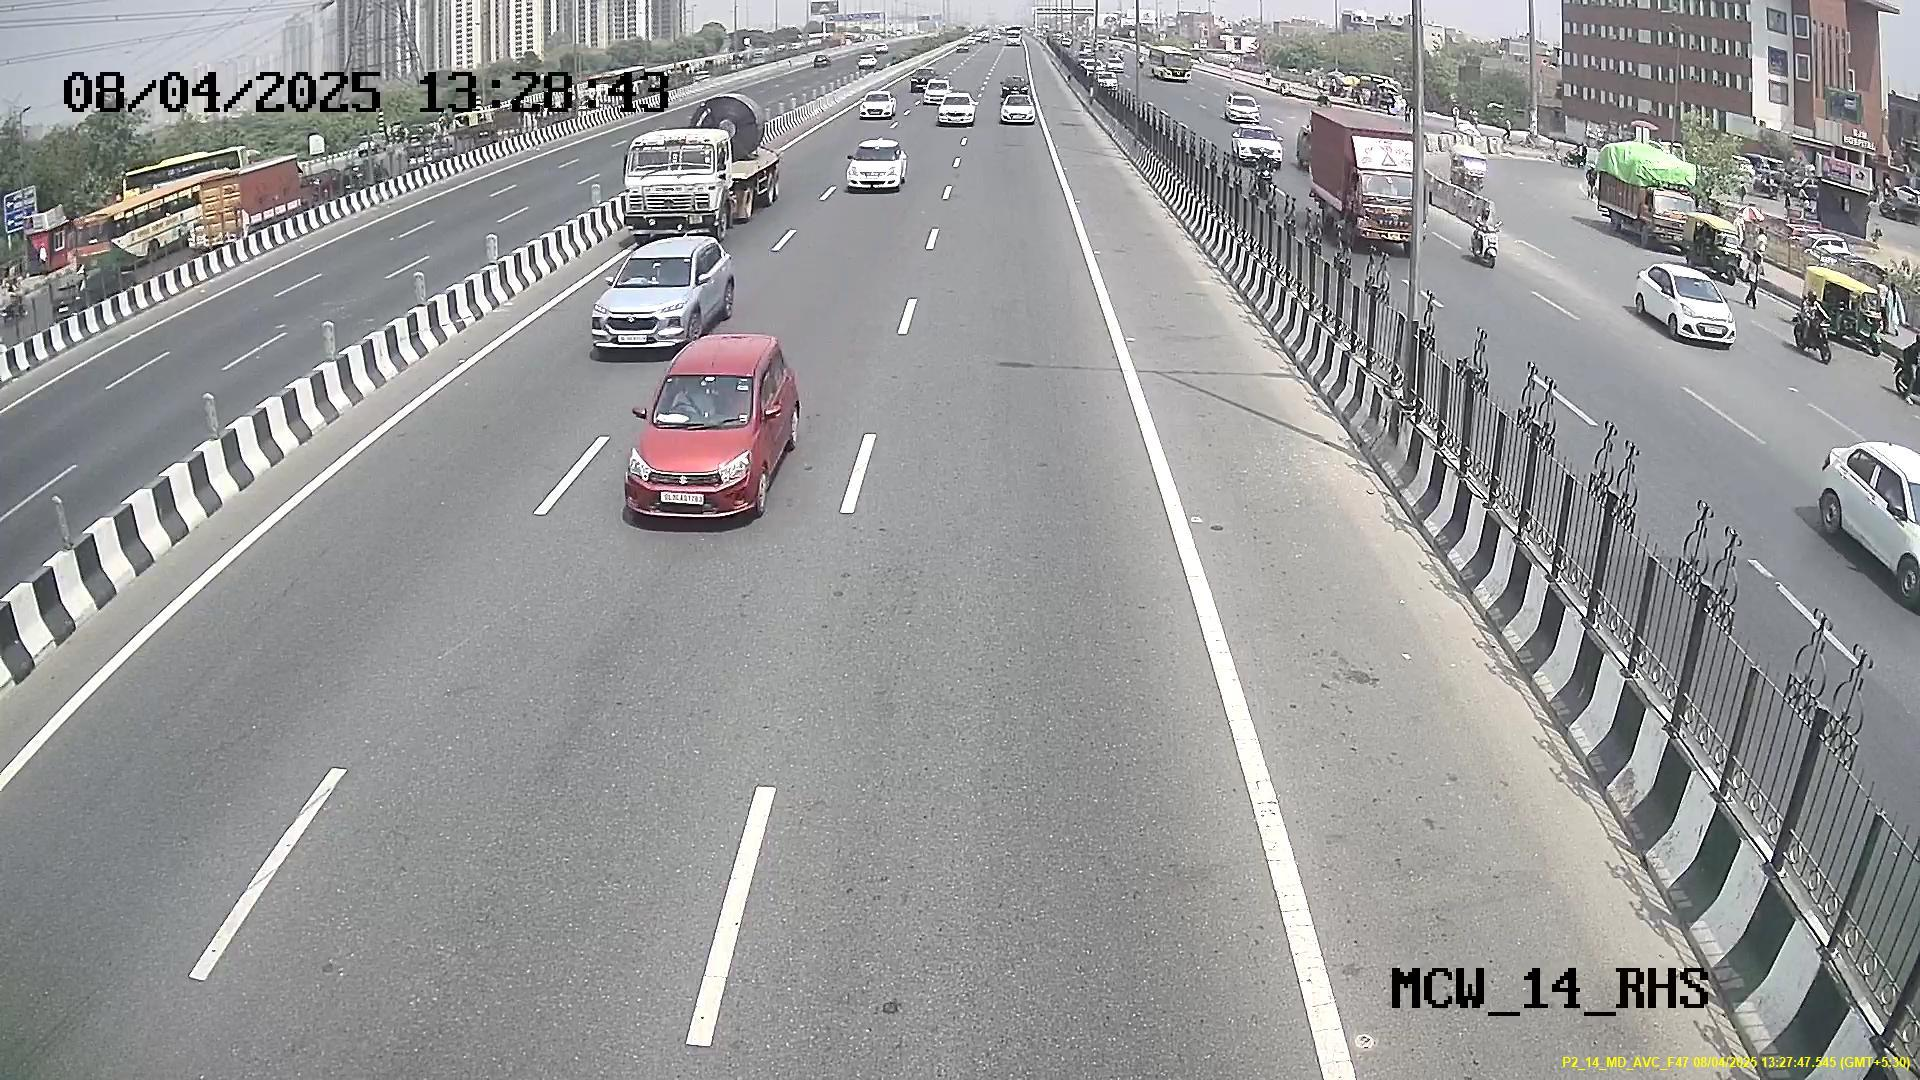car: (622, 355, 786, 529), (588, 245, 721, 356)
truck: (615, 123, 746, 236)
